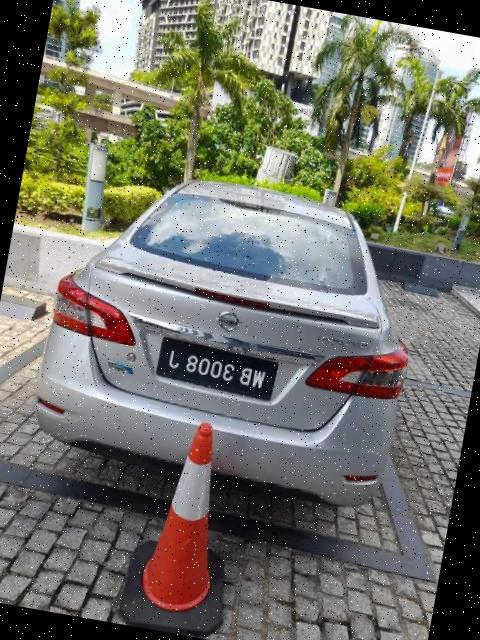License_Plate: (154, 336, 281, 402)
car: (26, 155, 436, 514)
